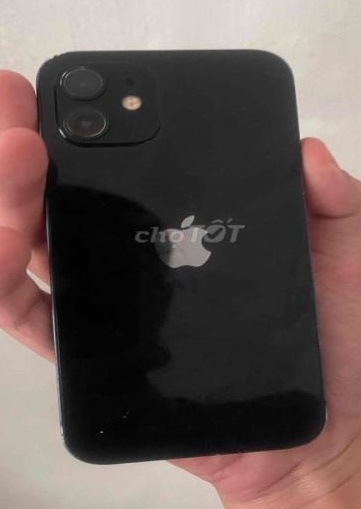scratch: (79, 399, 148, 445)
